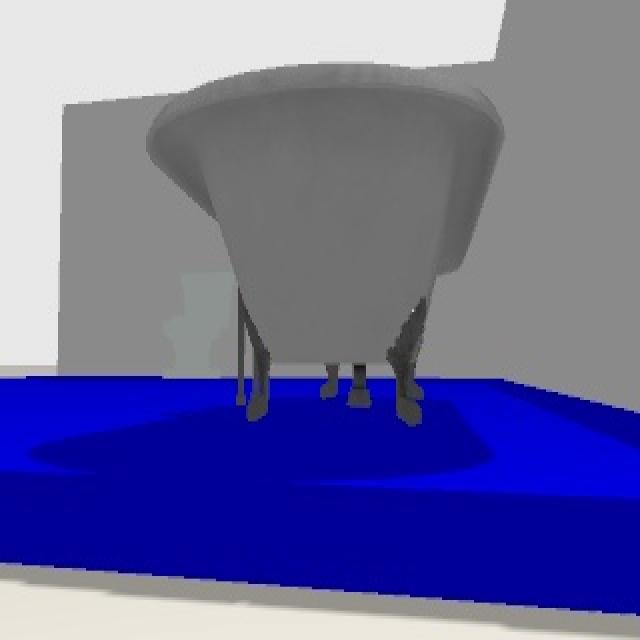bathtub: (144, 64, 508, 429)
